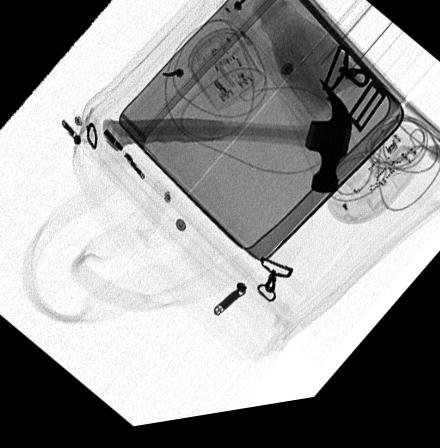Hammer: (100, 88, 352, 204)
